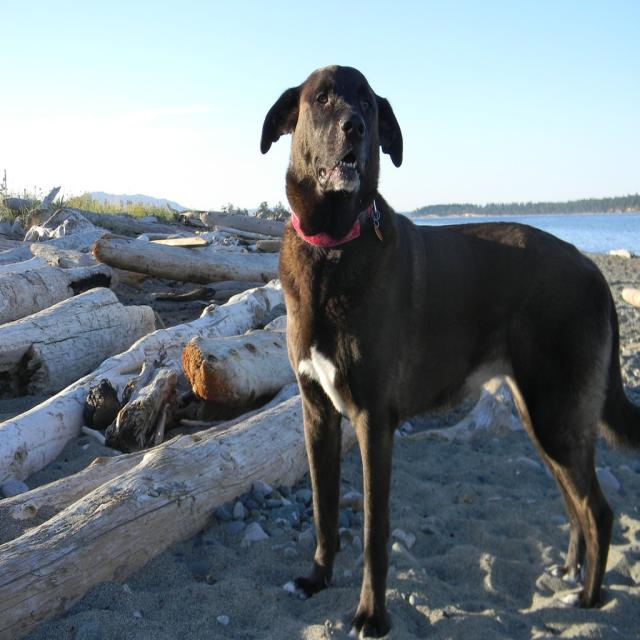Dog: (259, 64, 639, 638)
